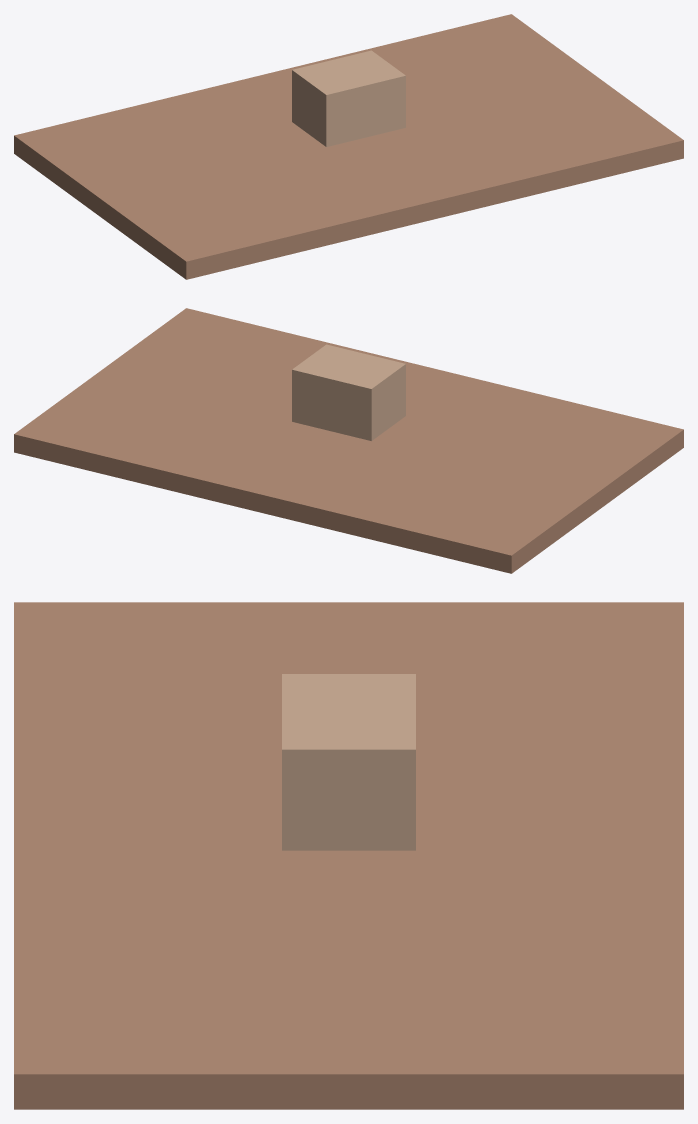
File: hero.glb
3 views of the same model, one above another, from view 1: azimuth 30°, elevation 25°; view 2: azimuth 150°, elevation 25°; view 3: azimuth 270°, elevation 25° (orthographic). The views are drawn at different scales.
Visible parts, largest first — view 1: substrate_municipal_water_utility_operates, 01_unspecified_subsystem; view 2: substrate_municipal_water_utility_operates, 01_unspecified_subsystem; view 3: substrate_municipal_water_utility_operates, 01_unspecified_subsystem.
Boxes of the visible parts, x1,y1,x2,y2 form: substrate_municipal_water_utility_operates: (14, 14, 683, 279); 01_unspecified_subsystem: (292, 50, 405, 146); substrate_municipal_water_utility_operates: (14, 308, 683, 573); 01_unspecified_subsystem: (292, 344, 405, 440); substrate_municipal_water_utility_operates: (14, 602, 683, 1109); 01_unspecified_subsystem: (282, 674, 415, 850).
Bounding box in the file's own units: 5 × 0.8 × 3.
